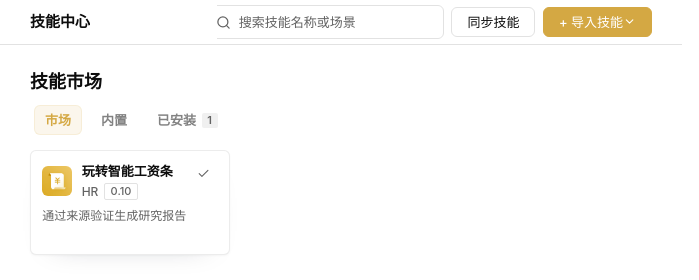
it: SkillCenterPage › 已安装技能 source=user 但命中市场 pluginId 时按市场安装处理
expect the text "玩转智能工资条" is shown: met, box [82,162,173,181]
Click the button "已安装 1": point(187, 120) [146,105,229,135]
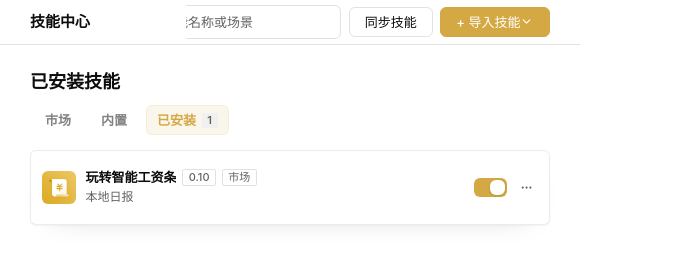
expect the text with test id "skill-card-source" reads "市场": met, box [228,170,250,184]
expect the text with test id "skill-card-source" does not show "自建": met, box [222,169,257,186]
Press the mouse on the button named "玩转智能工资条 更多操作": point(526, 188) [515,176,537,199]
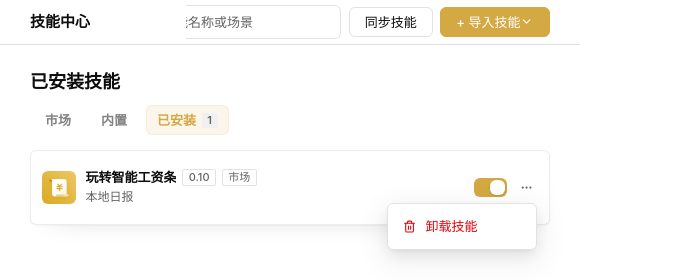
expect the menu item "卸载技能" is shown: met, box [403,218,478,234]
